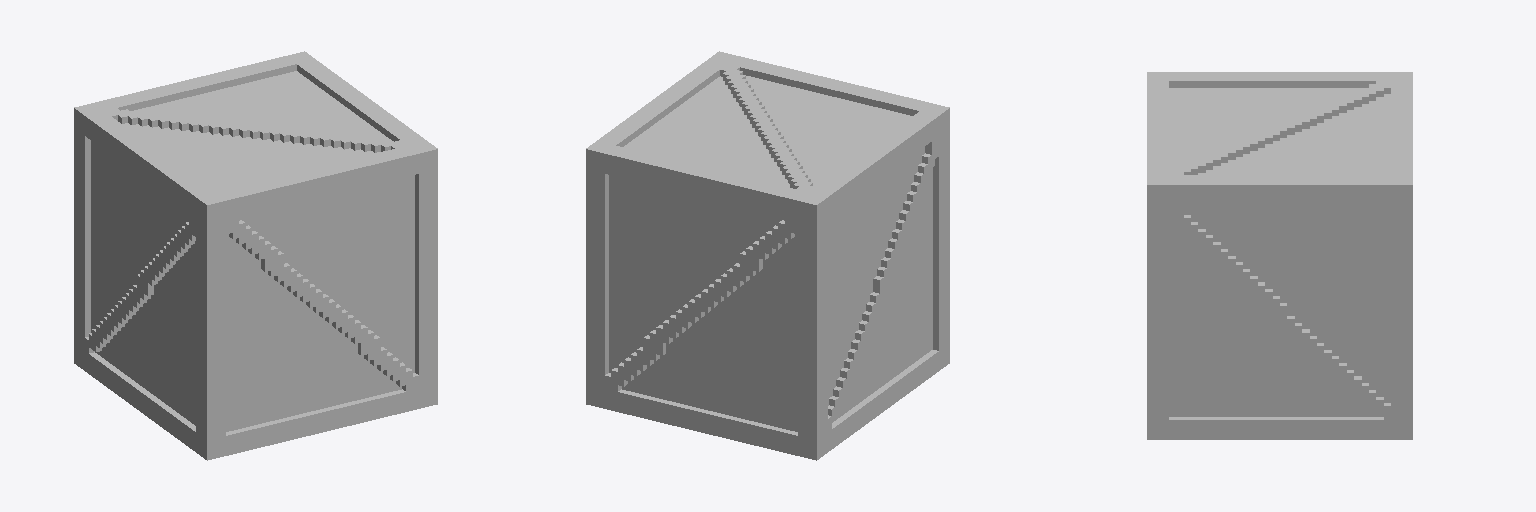
Rendered from wood_box_breakable.obj.
The picture shows the model from 3 angles: view 1: azimuth 30°, elevation 25°; view 2: azimuth 150°, elevation 25°; view 3: azimuth 270°, elevation 25°; orthographic projection.
Parts seen in each view (by area): view 1: object 1; view 2: object 1; view 3: object 1.
Boxes of the visible parts, x1=… form: object 1: x1=74, y1=51, x2=437, y2=460; object 1: x1=586, y1=51, x2=949, y2=460; object 1: x1=1147, y1=72, x2=1412, y2=439.
Size of the model in its own units: 7.2 by 7.6 by 7.2.